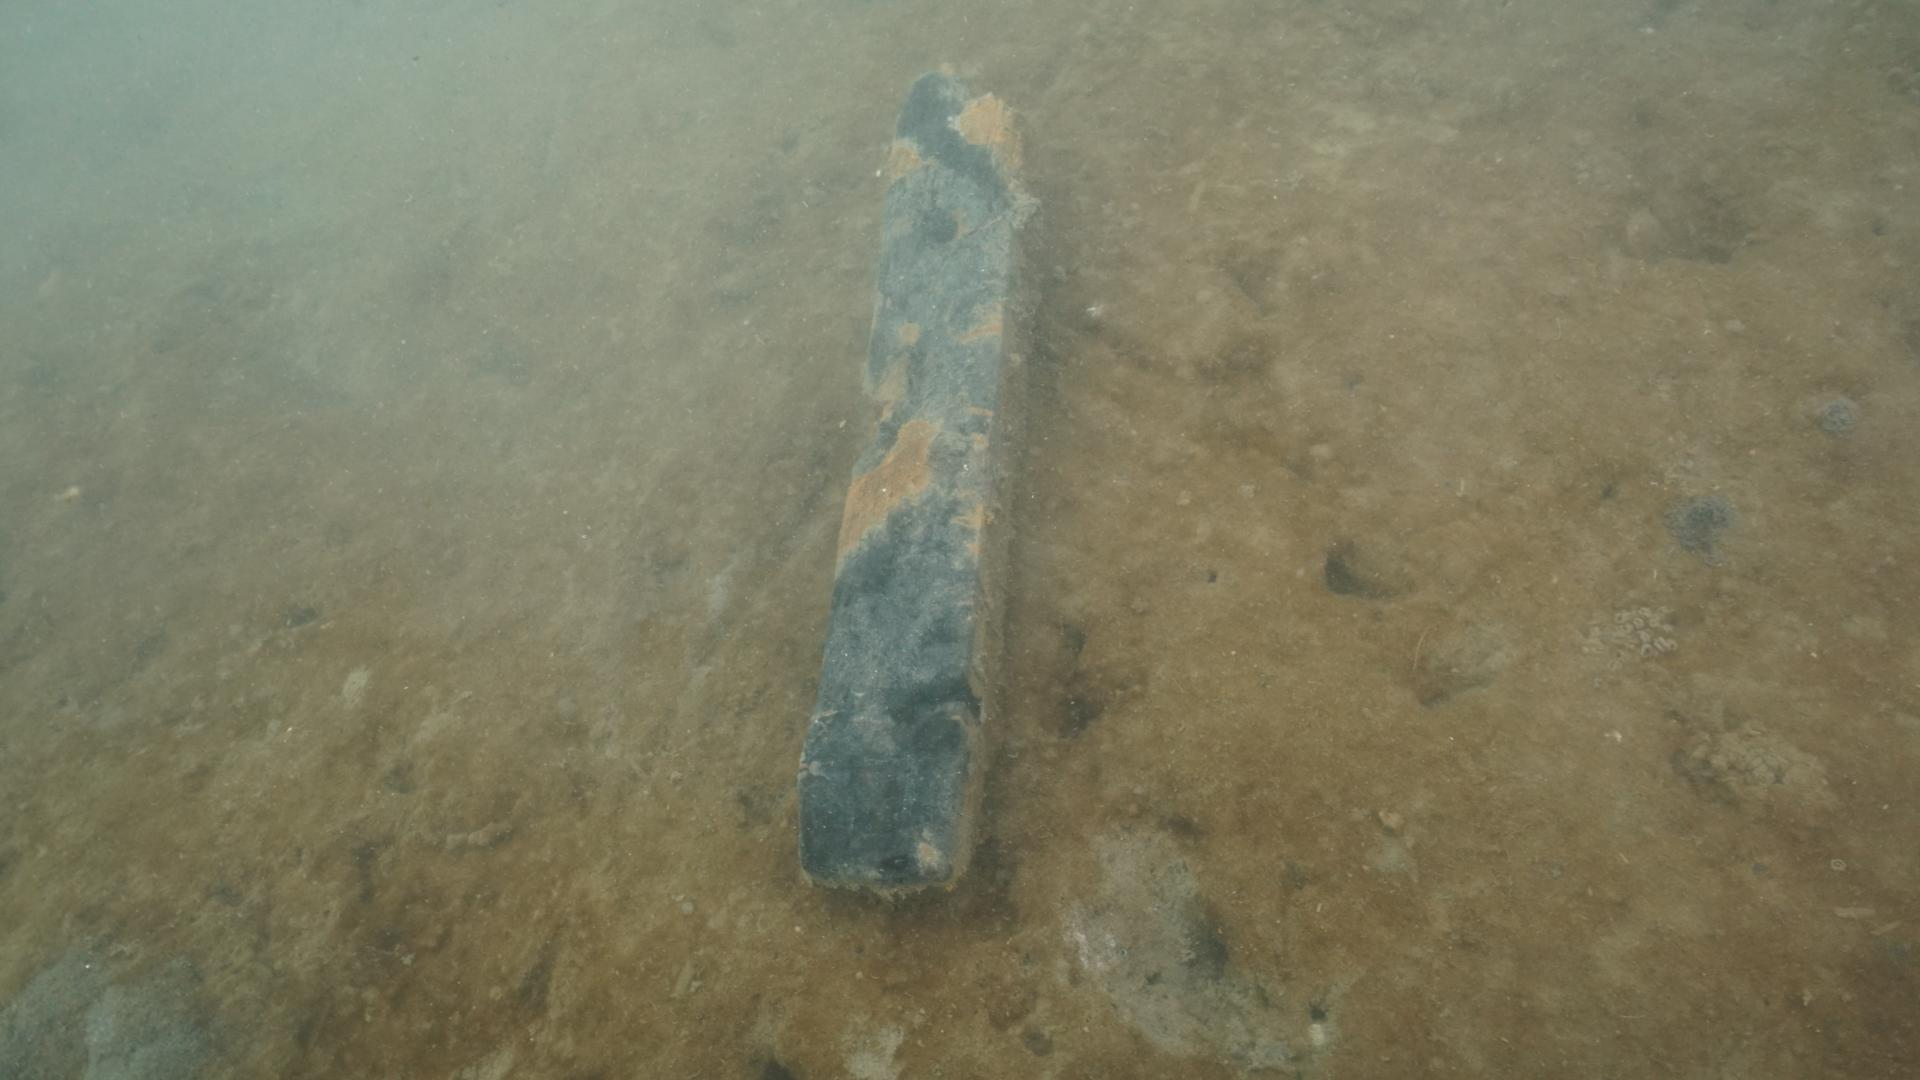wood: (782, 58, 1054, 905)
